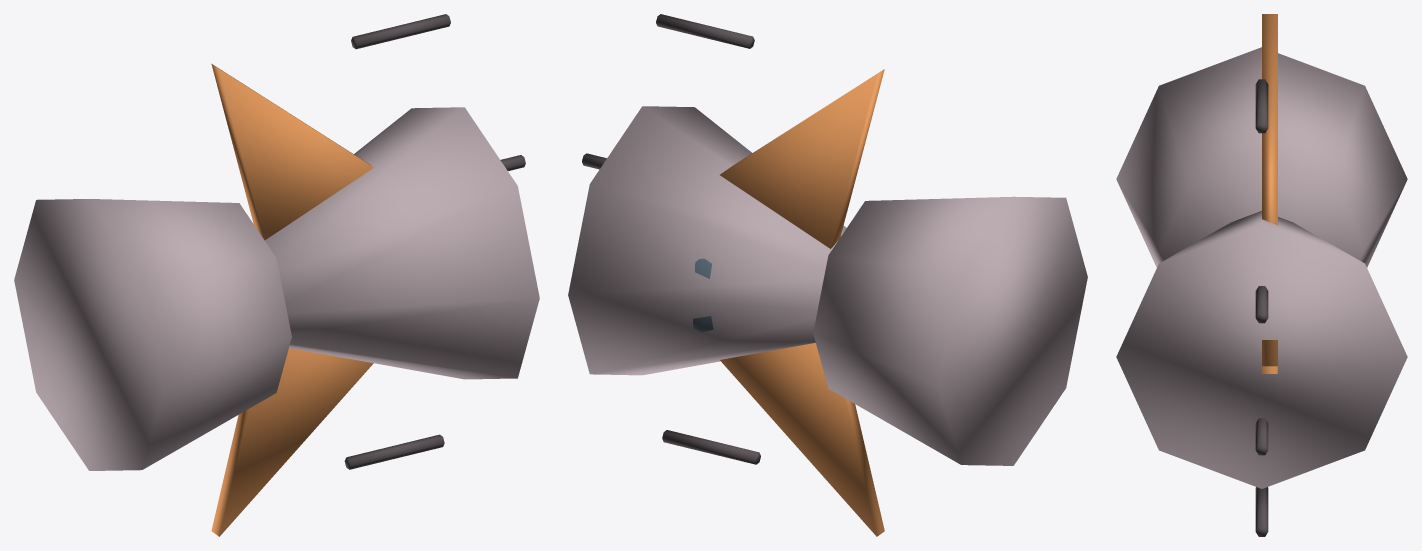
Rendered from enemy-ship-2.glb.
3 views of the same model, side by side, from view 1: azimuth 30°, elevation 25°; view 2: azimuth 150°, elevation 25°; view 3: azimuth 270°, elevation 25° (orthographic). The views are drawn at different scales.
Visible parts, largest first — view 1: Starfighter; view 2: Starfighter; view 3: Starfighter.
Boxes of the visible parts, x1=… form: Starfighter: x1=14, y1=14, x2=539, y2=536; Starfighter: x1=568, y1=14, x2=1087, y2=536; Starfighter: x1=1116, y1=14, x2=1407, y2=536.
Bounding box in the file's own units: 1.46 × 1.5 × 0.8735.
